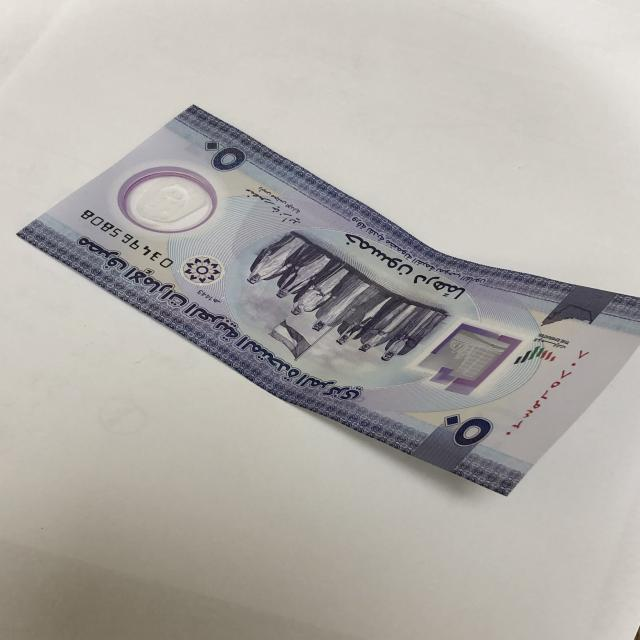50_AED: (7, 101, 639, 503)
